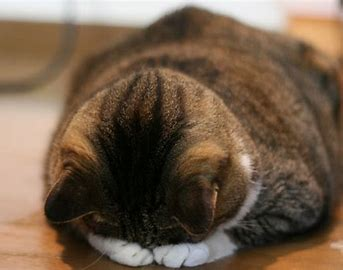cat: (46, 53, 272, 263)
